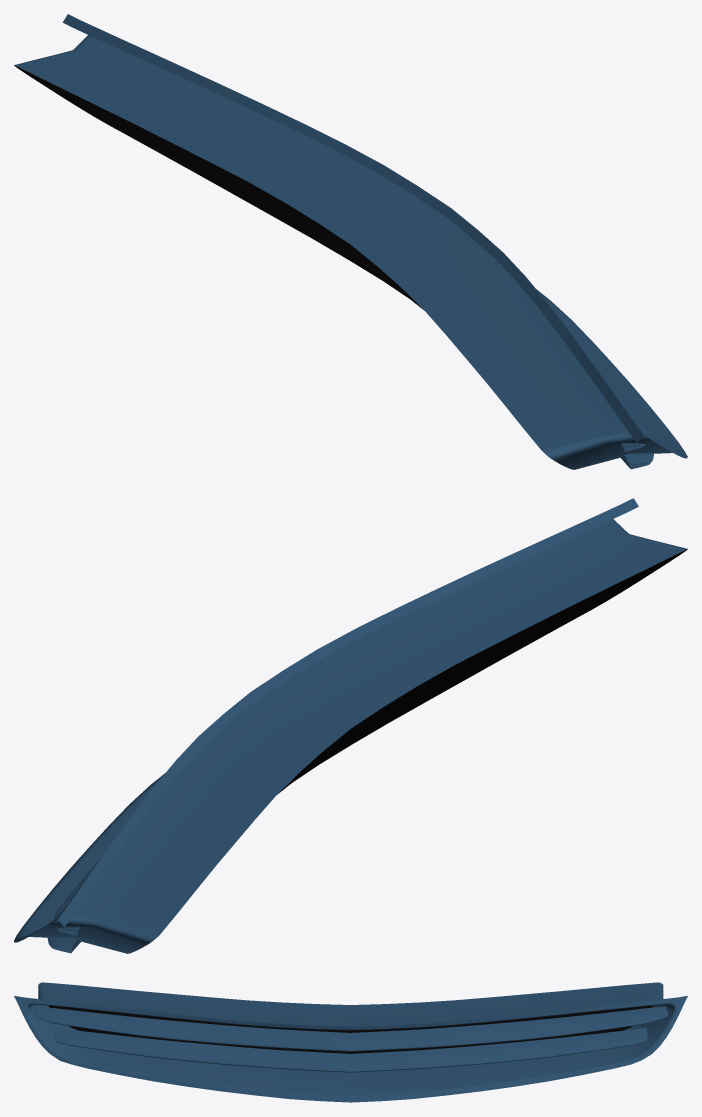
The picture shows the model from 3 angles, top to bottom: view 1: azimuth 30°, elevation 25°; view 2: azimuth 150°, elevation 25°; view 3: azimuth 270°, elevation 25°; orthographic projection. The views are drawn at different scales.
Parts seen in each view (by area): view 1: Y191_13_041B_C_6_DaS_Y191_13_041B_C, Y191_13_041B_C_6_DaS_Y191_13_041B_C_E, Y191_13_041B_C_Y191_13_041B_C_5_D; view 2: Y191_13_041B_C_6_DaS_Y191_13_041B_C, Y191_13_041B_C_6_DaS_Y191_13_041B_C_E, Y191_13_041B_C_Y191_13_041B_C_5_D; view 3: Y191_13_041B_C_6_DaS_Y191_13_041B_C, Y191_13_041B_C_6_DaS_Y191_13_041B_C_E, Y191_13_041B_C_Y191_13_041B_C_5_D.
Part boxes in pixels (x1,y1,x2,y2): Y191_13_041B_C_6_DaS_Y191_13_041B_C: (14,35,687,469); Y191_13_041B_C_6_DaS_Y191_13_041B_C_E: (63,14,683,460); Y191_13_041B_C_Y191_13_041B_C_5_D: (14,65,423,309); Y191_13_041B_C_6_DaS_Y191_13_041B_C: (14,519,687,953); Y191_13_041B_C_6_DaS_Y191_13_041B_C_E: (18,498,638,947); Y191_13_041B_C_Y191_13_041B_C_5_D: (277,549,687,794); Y191_13_041B_C_6_DaS_Y191_13_041B_C: (14,982,687,1102); Y191_13_041B_C_6_DaS_Y191_13_041B_C_E: (14,997,687,1097); Y191_13_041B_C_Y191_13_041B_C_5_D: (48,1005,652,1053).
Bounding box in the file's own units: 23.6 × 8.98 × 94.75.
